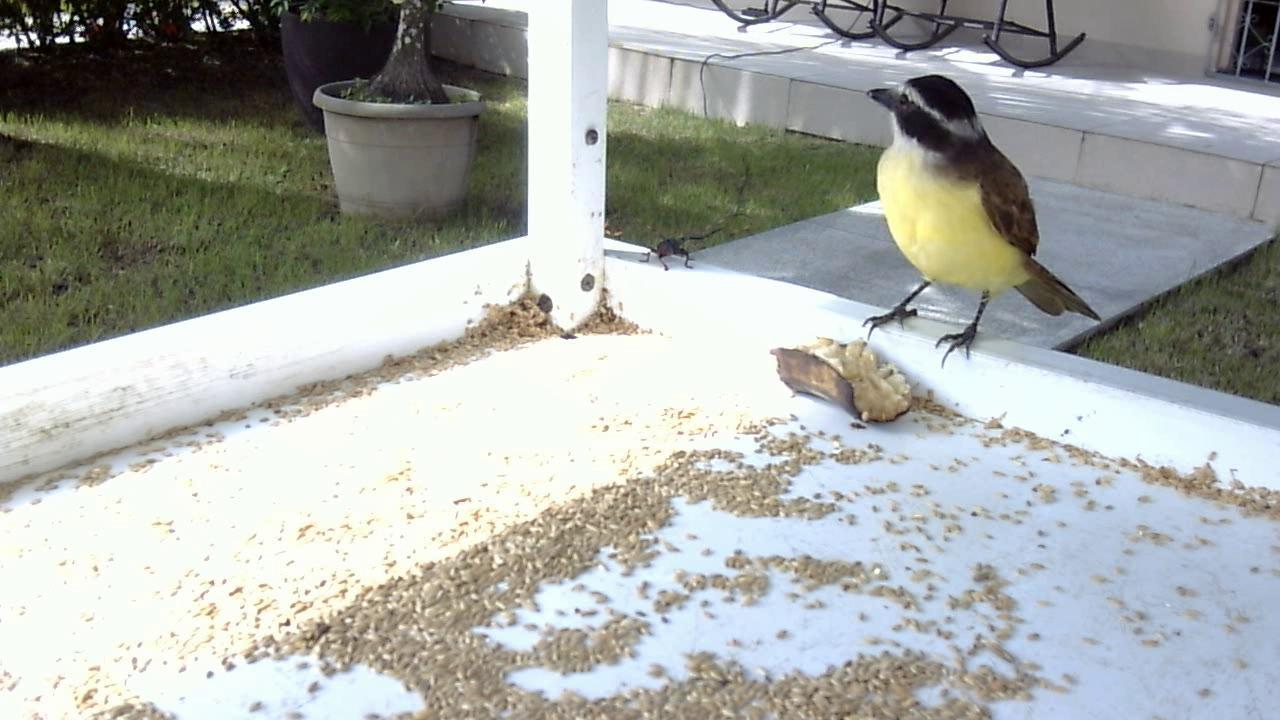bem_te_vi: (838, 63, 1103, 381)
